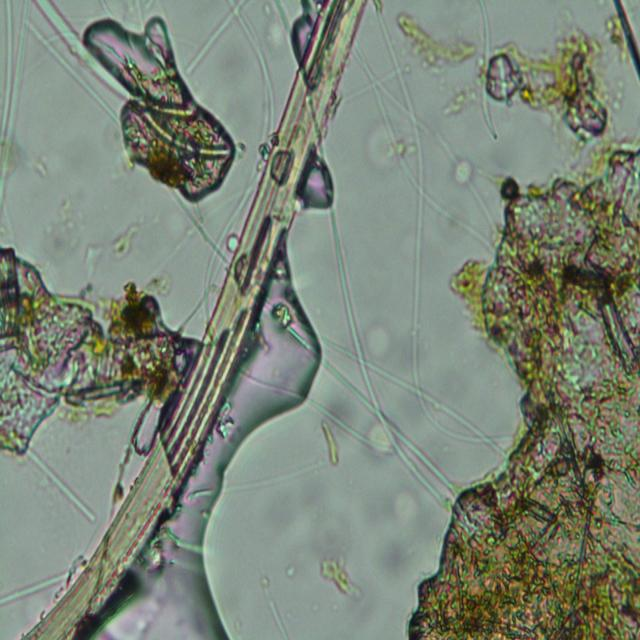Air bubble: (96, 275, 320, 640), (305, 164, 343, 213)
Anthropogenic: (23, 0, 366, 640)
Background material: (401, 141, 640, 639), (0, 231, 187, 467), (86, 14, 238, 217), (503, 19, 622, 149), (300, 522, 374, 627), (50, 199, 144, 274), (398, 8, 476, 76), (599, 1, 640, 69), (438, 139, 482, 199)
Glass filter fibre: (376, 7, 512, 445), (326, 204, 446, 511), (348, 41, 494, 252), (202, 1, 276, 298), (318, 358, 458, 501), (26, 15, 120, 126), (36, 0, 128, 95), (0, 0, 30, 200), (24, 447, 96, 524), (304, 396, 392, 451), (185, 0, 247, 75), (217, 455, 321, 492), (476, 0, 500, 136), (0, 568, 70, 606), (268, 600, 289, 640)
